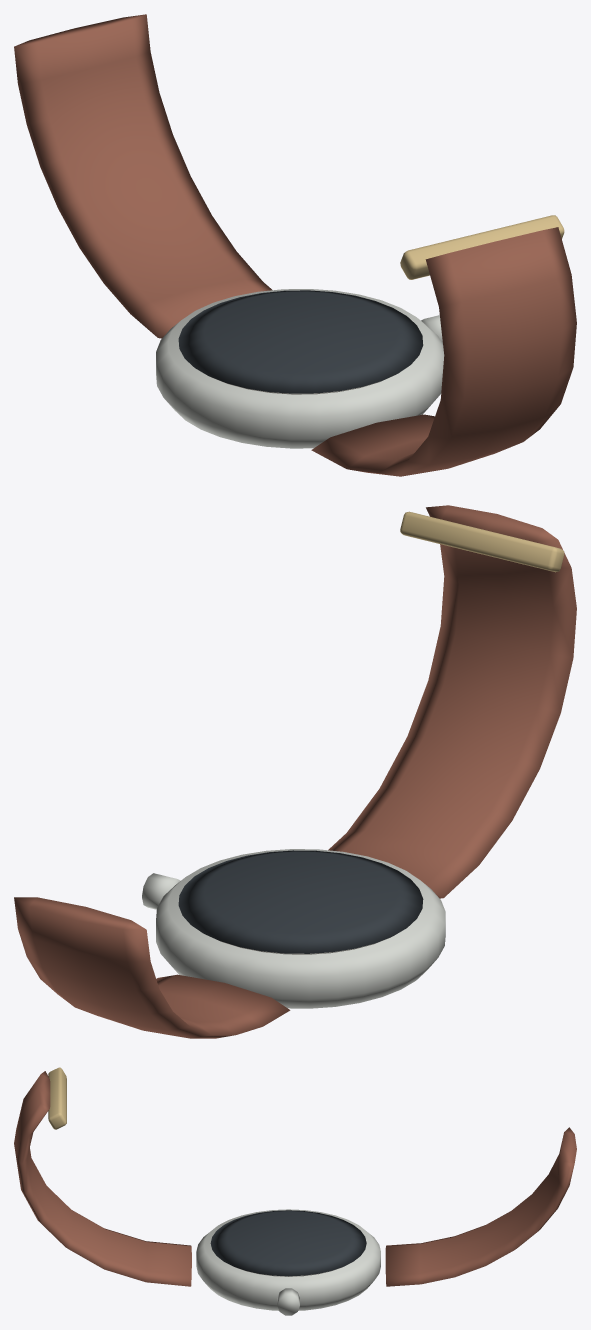
The model's file is ss_watch.glb.
The picture shows the model from 3 angles, top to bottom: view 1: azimuth 30°, elevation 25°; view 2: azimuth 150°, elevation 25°; view 3: azimuth 270°, elevation 25°; orthographic projection. The views are drawn at different scales.
Parts seen in each view (by area): view 1: ss_watch; view 2: ss_watch; view 3: ss_watch.
Part boxes in pixels (x1,y1,x2,y2): ss_watch: (14, 14, 576, 476); ss_watch: (14, 505, 576, 1038); ss_watch: (14, 1067, 576, 1315).
Size of the model in its own units: 0.0395 by 0.0404 by 0.1096.
